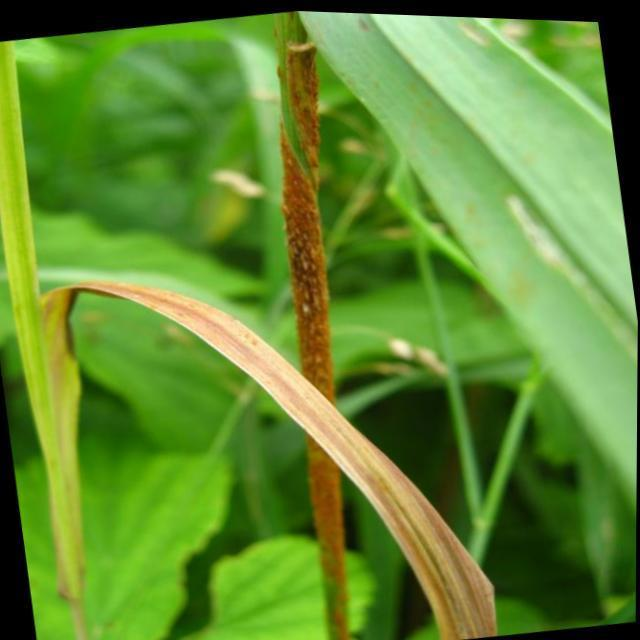Stem Rust: (74, 278, 501, 637), (275, 37, 335, 404), (306, 431, 351, 639)
